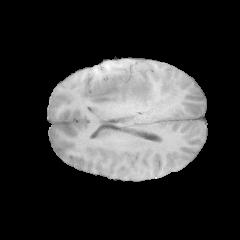glioma: (90, 69, 177, 126)
